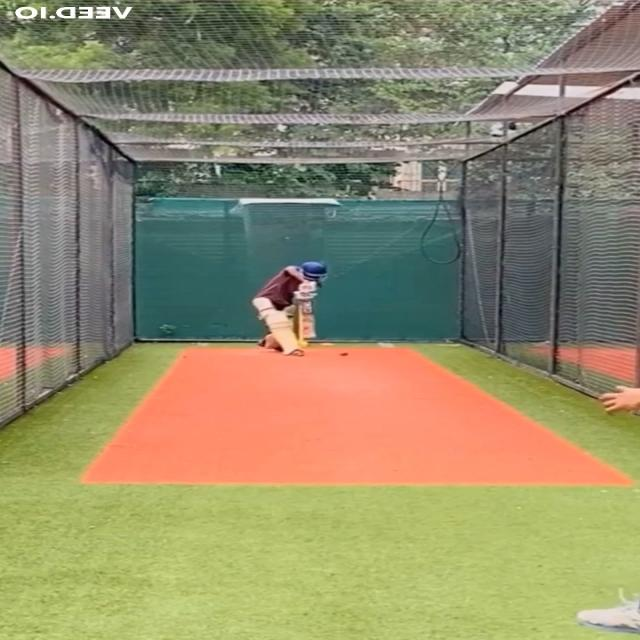ball: (338, 350, 351, 357)
